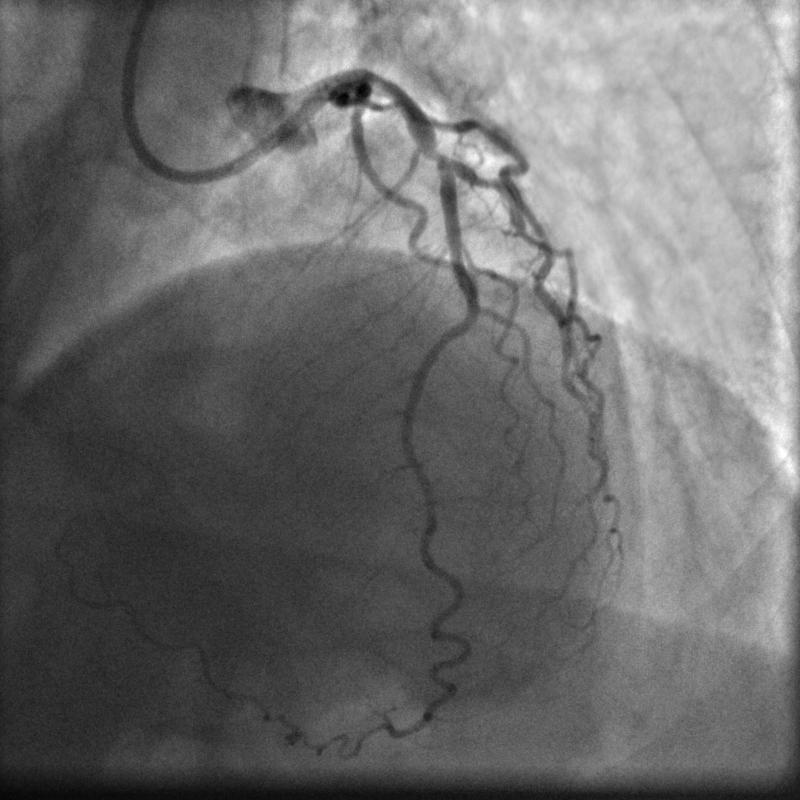Stenosis: (417, 142, 451, 166)
